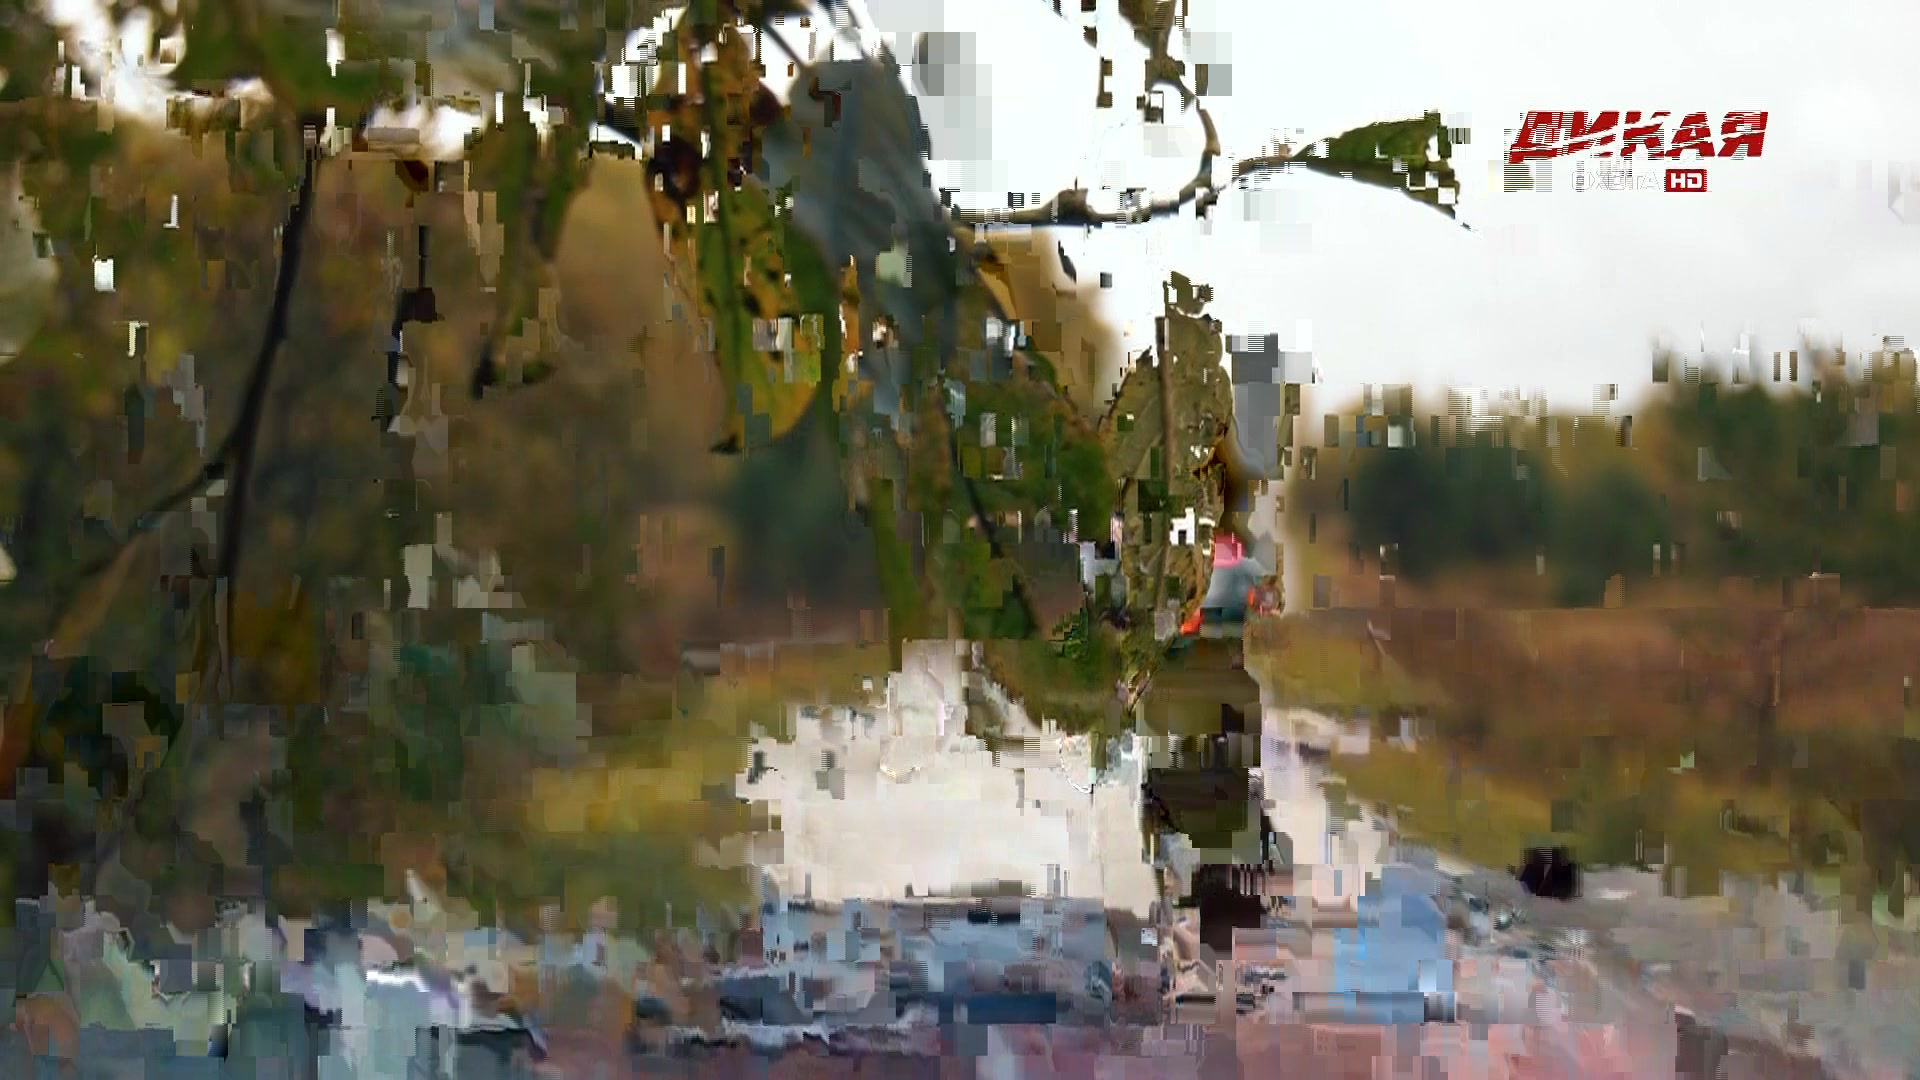Dikaya_Ohota_HD: (1505, 104, 1771, 196)
